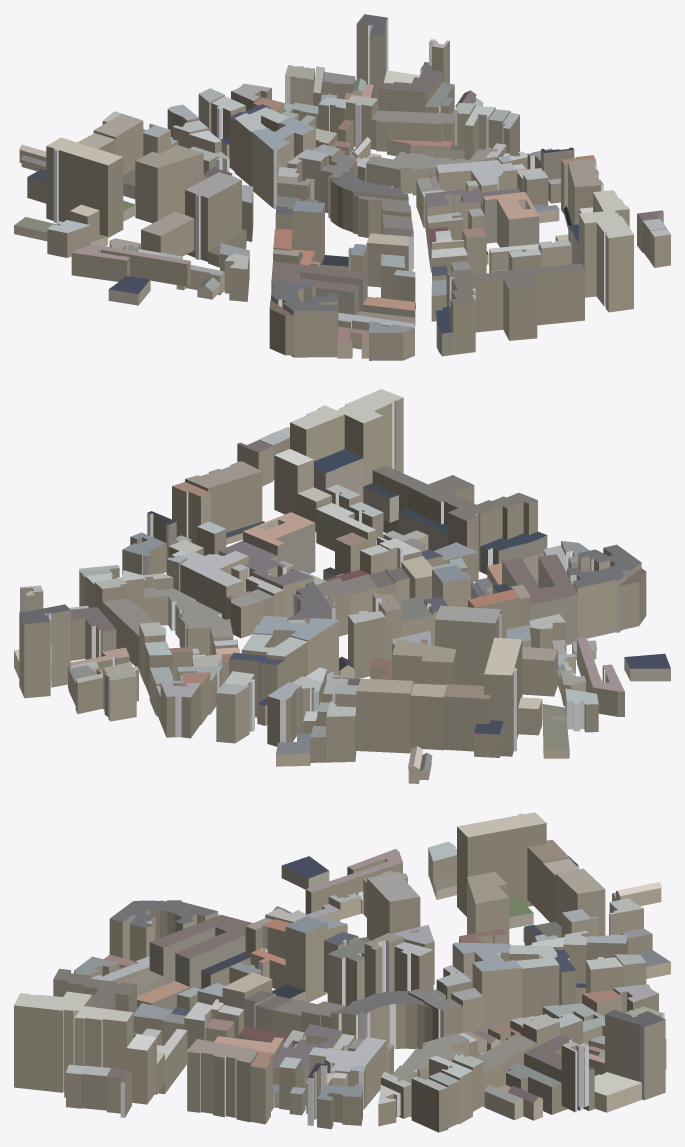
3 views of the same model, one above another, from view 1: azimuth 30°, elevation 25°; view 2: azimuth 150°, elevation 25°; view 3: azimuth 270°, elevation 25° (orthographic). The views are drawn at different scales.
Visible parts, largest first — view 1: tuile; view 2: tuile; view 3: tuile.
Boxes of the visible parts, x1,y1,x2,y2 form: tuile: (14, 14, 670, 360); tuile: (14, 389, 670, 783); tuile: (14, 812, 670, 1132).
Bounding box in the file's own units: 265 × 52.41 × 286.
